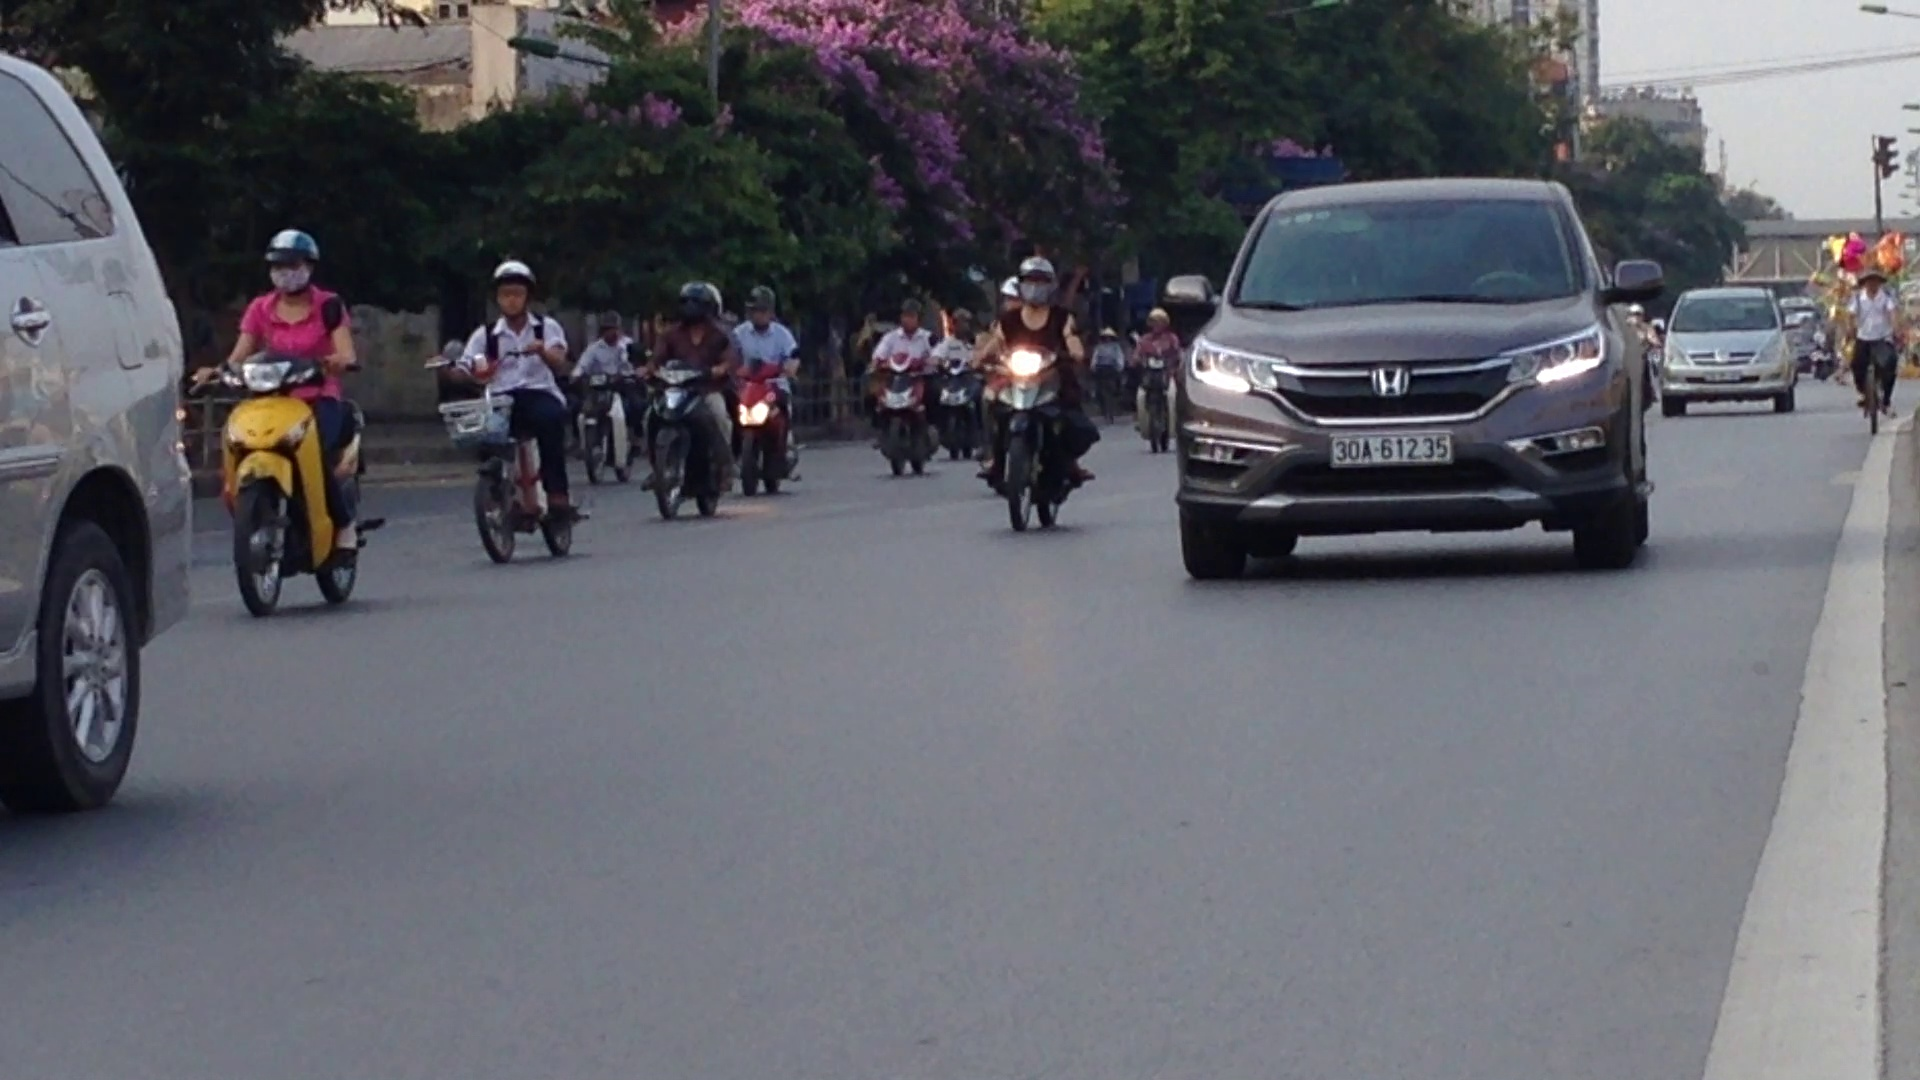person: (1323, 427, 1455, 467)
